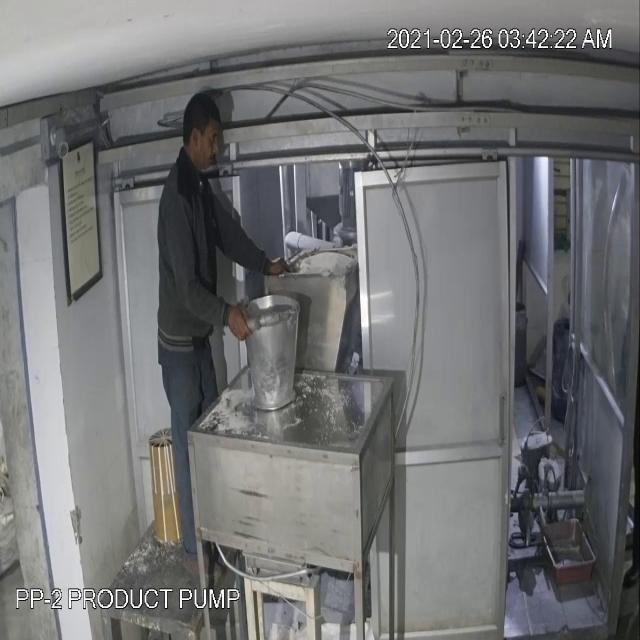no-helmet: (182, 89, 224, 178)
